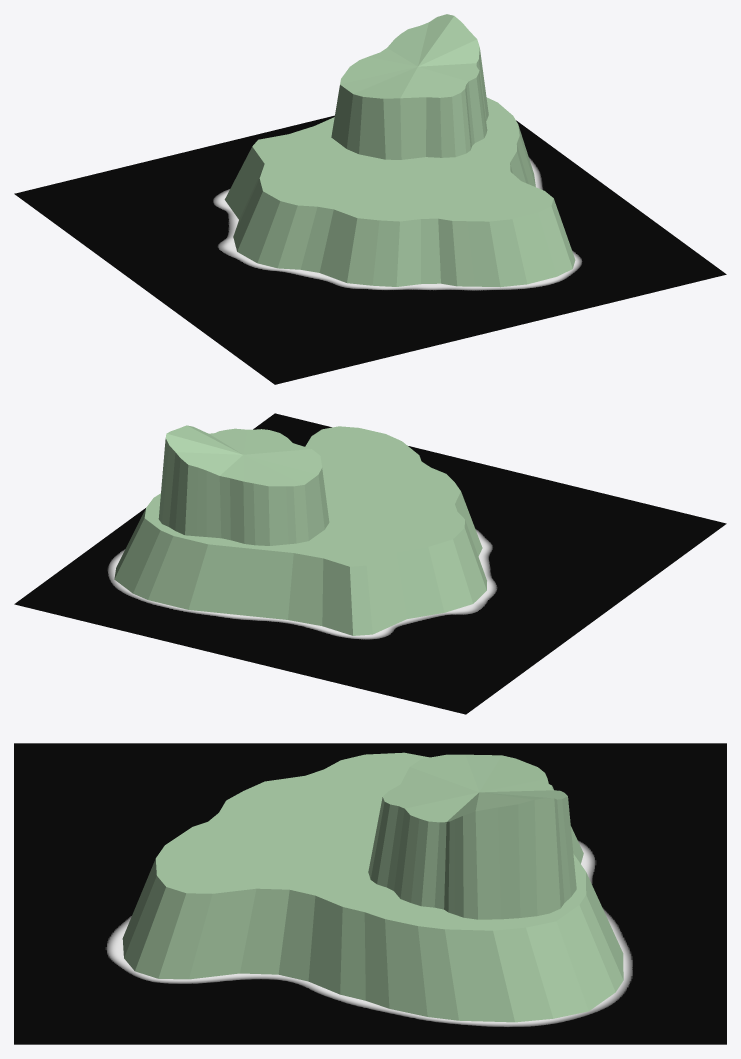
The model's file is island.fbx.
The picture shows the model from 3 angles, top to bottom: view 1: azimuth 30°, elevation 25°; view 2: azimuth 150°, elevation 25°; view 3: azimuth 270°, elevation 25°; orthographic projection. The views are drawn at different scales.
Parts seen in each view (by area): view 1: WaterPlane, Island; view 2: WaterPlane, Island; view 3: WaterPlane, Island.
Boxes of the visible parts, x1=… form: WaterPlane: x1=14, y1=115, x2=726, y2=384; Island: x1=224, y1=14, x2=575, y2=287; WaterPlane: x1=14, y1=413, x2=726, y2=714; Island: x1=114, y1=425, x2=486, y2=635; WaterPlane: x1=14, y1=743, x2=726, y2=1044; Island: x1=122, y1=752, x2=623, y2=1022.
Size of the model in its own units: 1000 by 294 by 1000.
2 materials, 1 textured.
